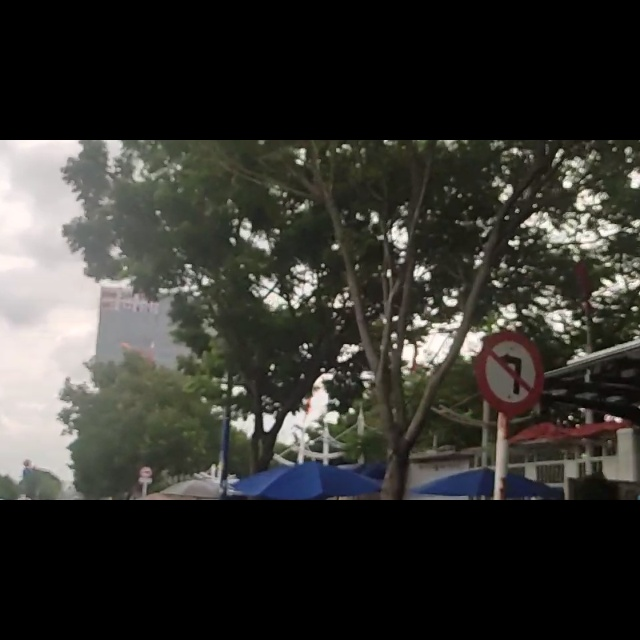bien_hieu_lenh: (477, 338, 543, 488)
